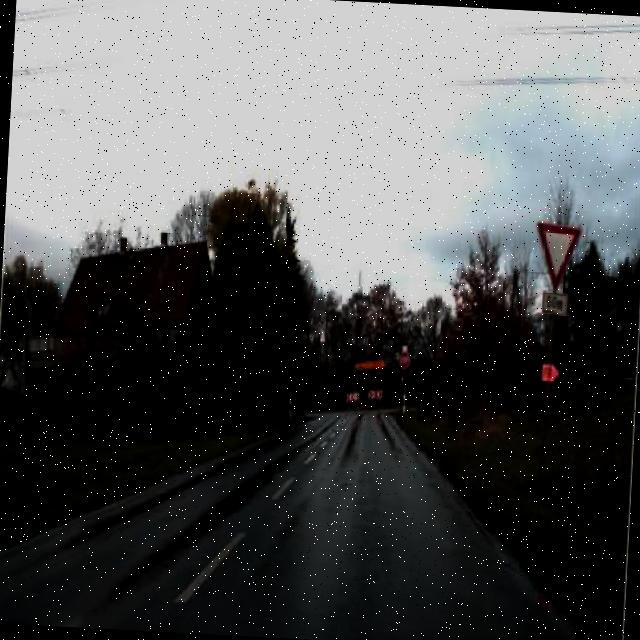Stop: (398, 350, 412, 372)
Ustap pierwszenstwa: (531, 220, 587, 296)
